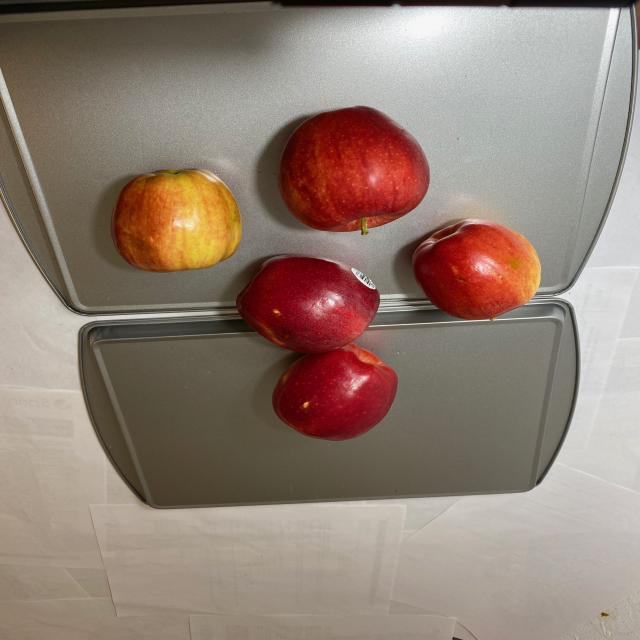apple: (111, 105, 546, 438)
